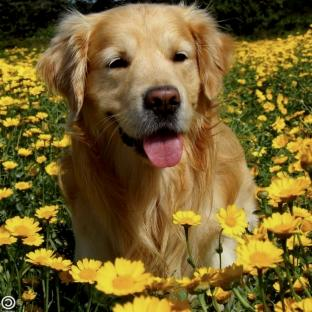Animal: (37, 4, 257, 277)
